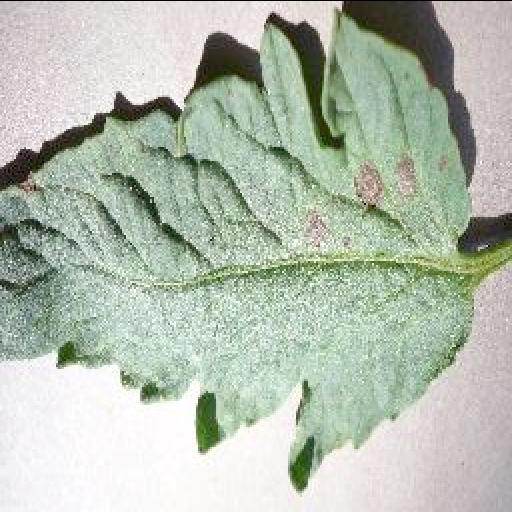Early Blight: (4, 4, 476, 493)
